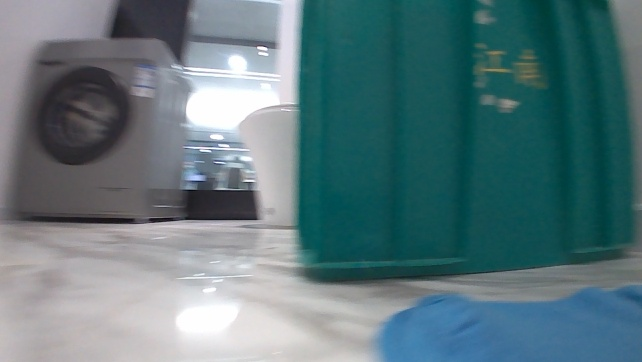socks: (366, 275, 641, 361)
toilet: (237, 101, 302, 228)
washing_machine: (9, 35, 194, 226)
